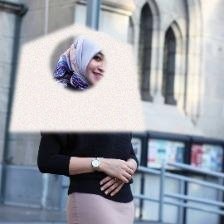Mukena: (8, 23, 146, 131)
